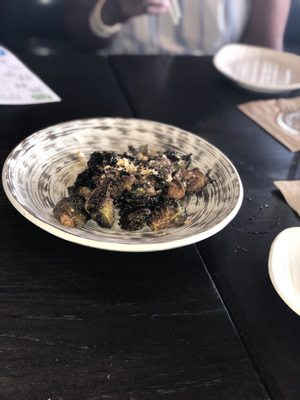curry: (0, 41, 300, 400)
sandwich: (53, 145, 212, 233)
